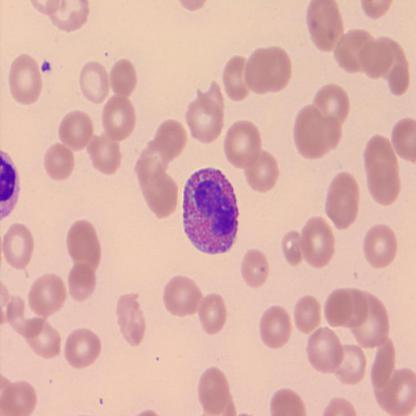Basophil: (180, 163, 242, 262)
